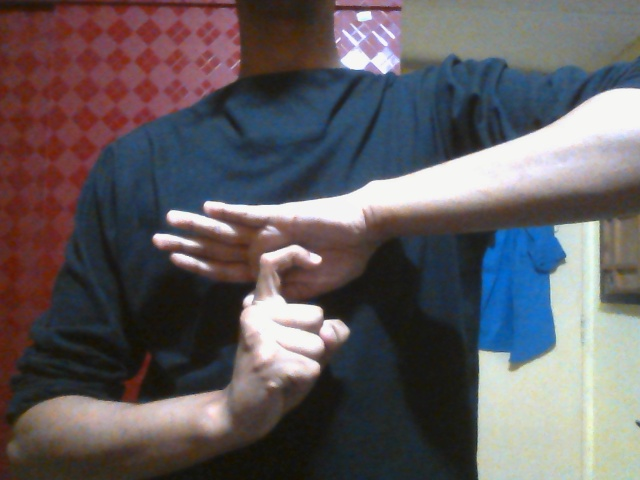R: (150, 184, 399, 440)
